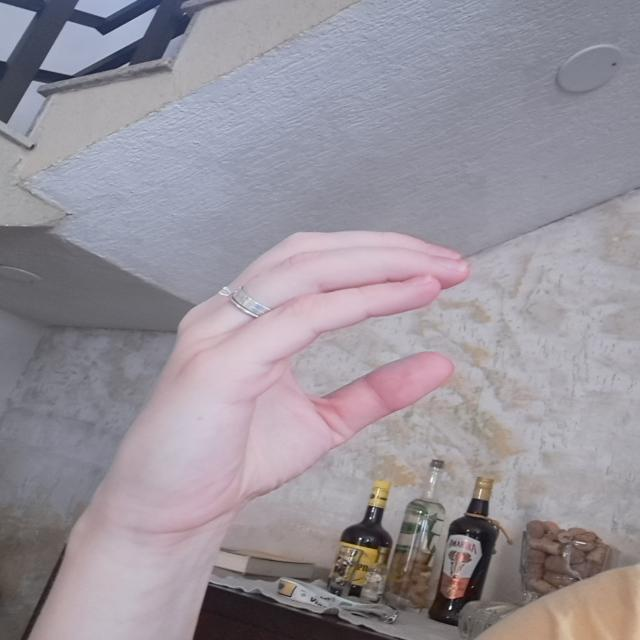C: (104, 224, 476, 536)
